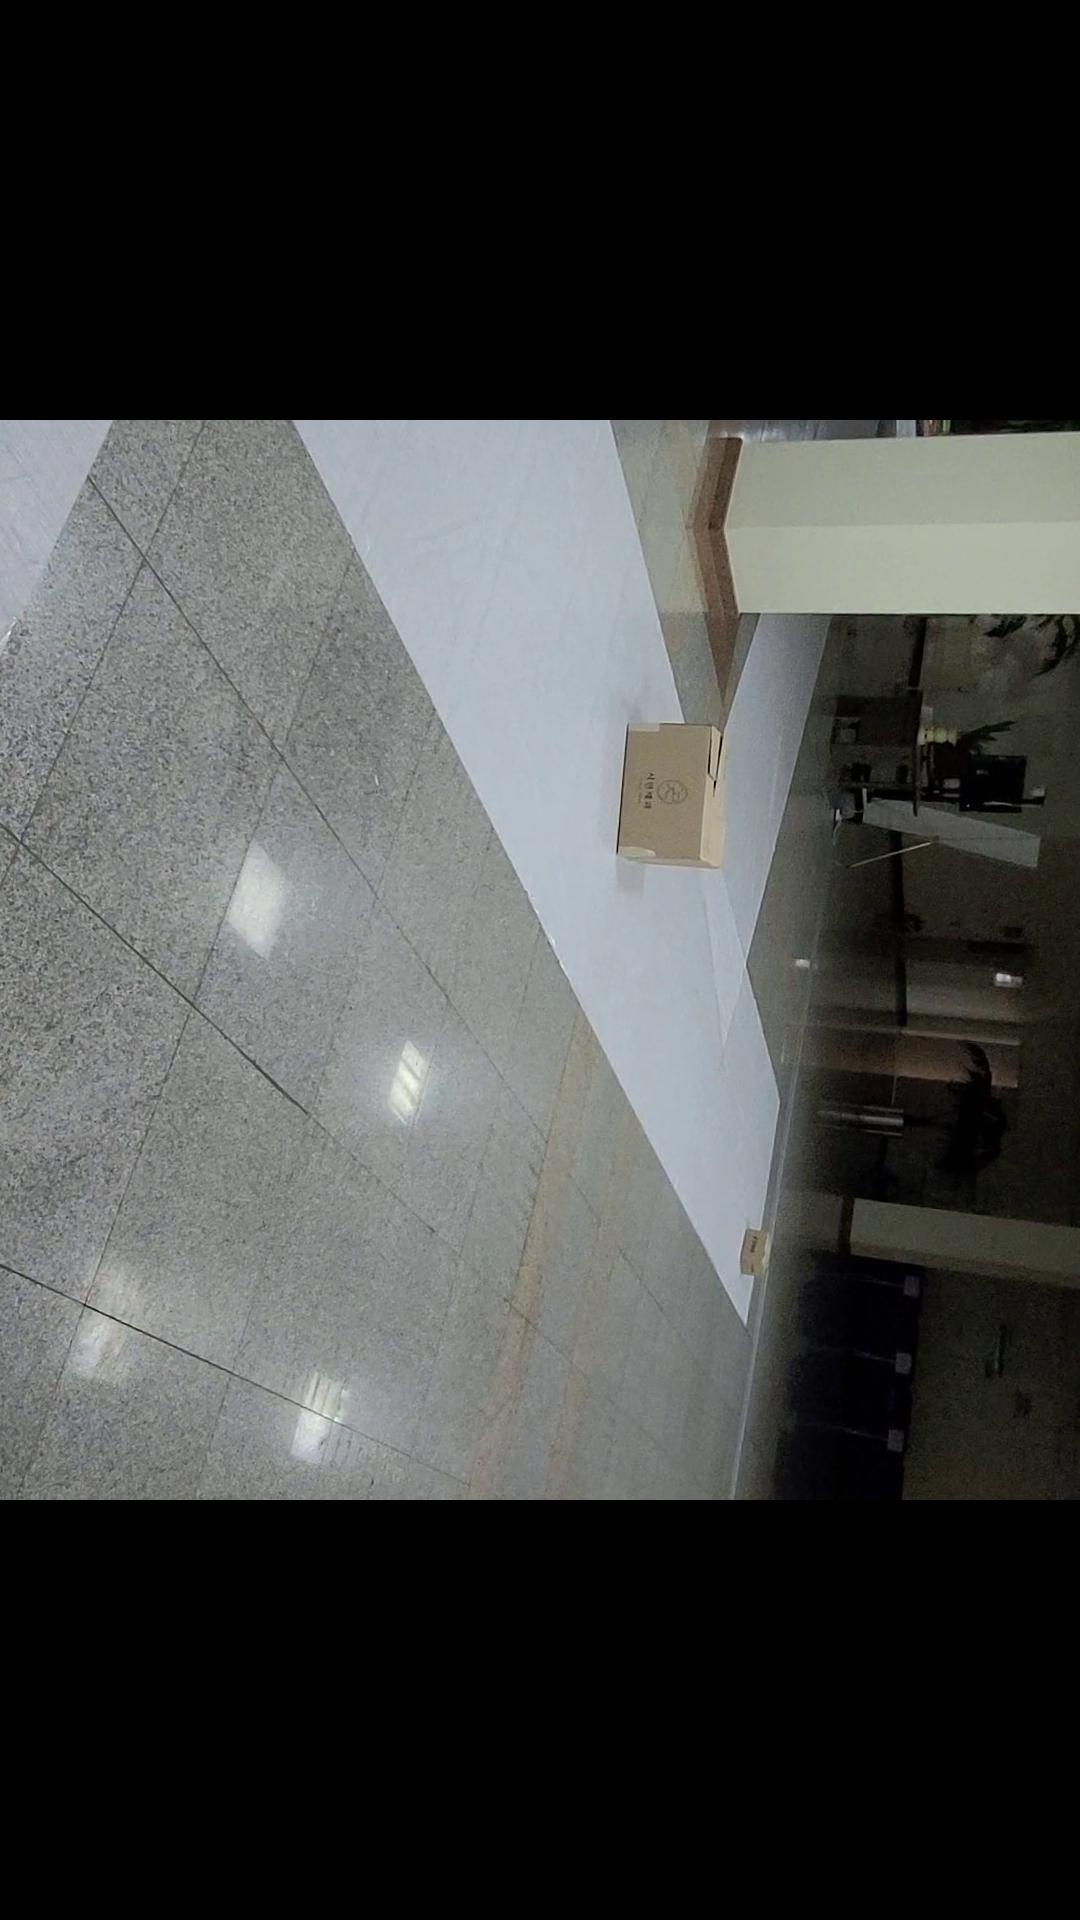Box: (611, 721, 742, 876), (727, 1218, 777, 1284)
